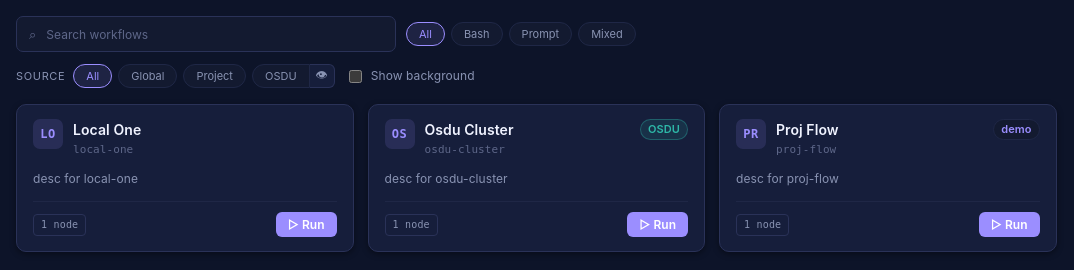
Test case: WorkflowList — provenance filtering › project workflows get a badge and their own source filter
This screenshot has width=1074, height=270.
Expected: the text "demo" is shown, [993,119,1040,140]
Note: The "project" chip narrows to project-scoped workflows only.
Click the button "project" at {"x": 215, "y": 76}, box [183,64,246,88]
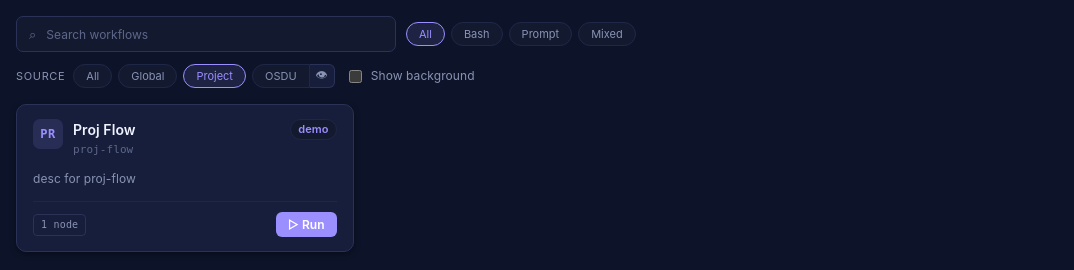
Expected: the text "proj-flow" is shown, [73,141,136,158]
Expected: the text "local-one" is gone
Expected: the text "osdu-cluster" is gone
